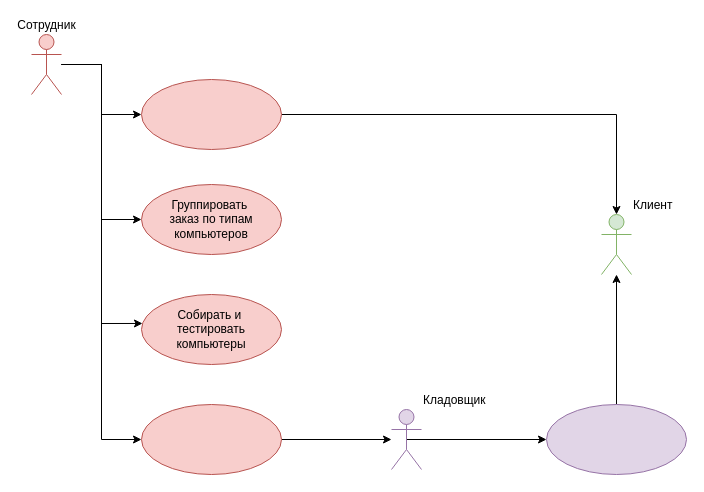
Image size: 704x492. Some labels were removed from this diagram. Each missing label, with the centre of its shape:
Отгрузить заказ: (x=616, y=439)
Принять заказ: (x=211, y=114)
Упаковывать компьютеры согласно заказам: (x=211, y=439)
